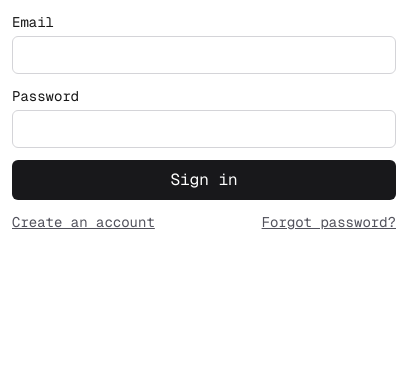
Test case: EmailAuthForm › signs up with a name and asks to confirm the email
The width and height of the screenshot is (413, 373).
Click the button "Create an account" at (83, 222), box [12,212,155,232]
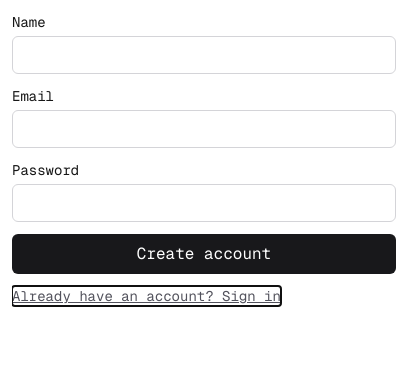
Type "Gob" into the field labelled "Name" at (204, 55), box [12,36,396,74]
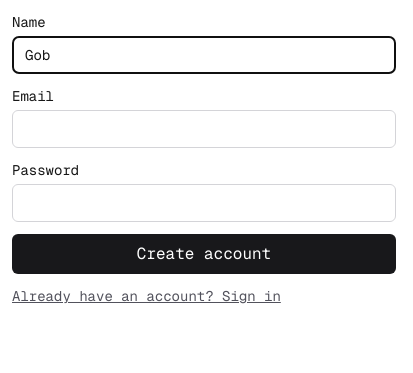
Type "a@b.co" into the field labelled "Email" at (204, 129), box [12,110,396,148]
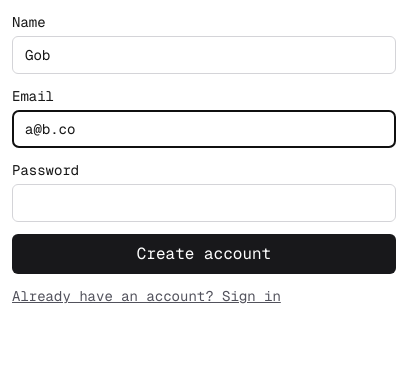
Type "hunter22" into the password field labelled "Password" at (204, 203), box [12,184,396,222]
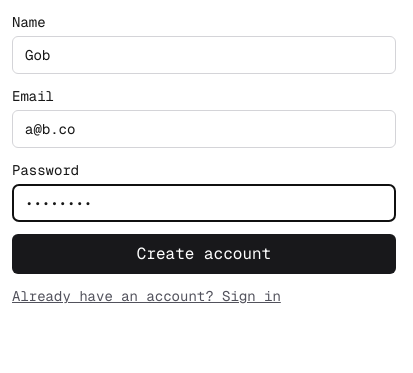
Click the button "Create account" at (204, 254), box [12,234,396,274]
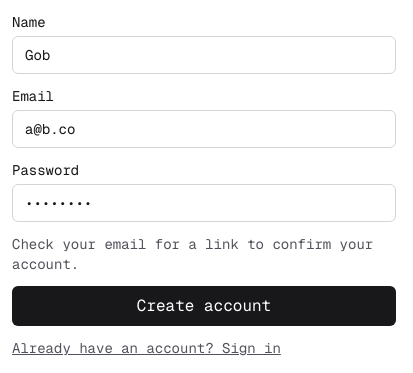
expect the text "Check your email for a link to confirm your account." is shown: met, box [12,234,396,274]
